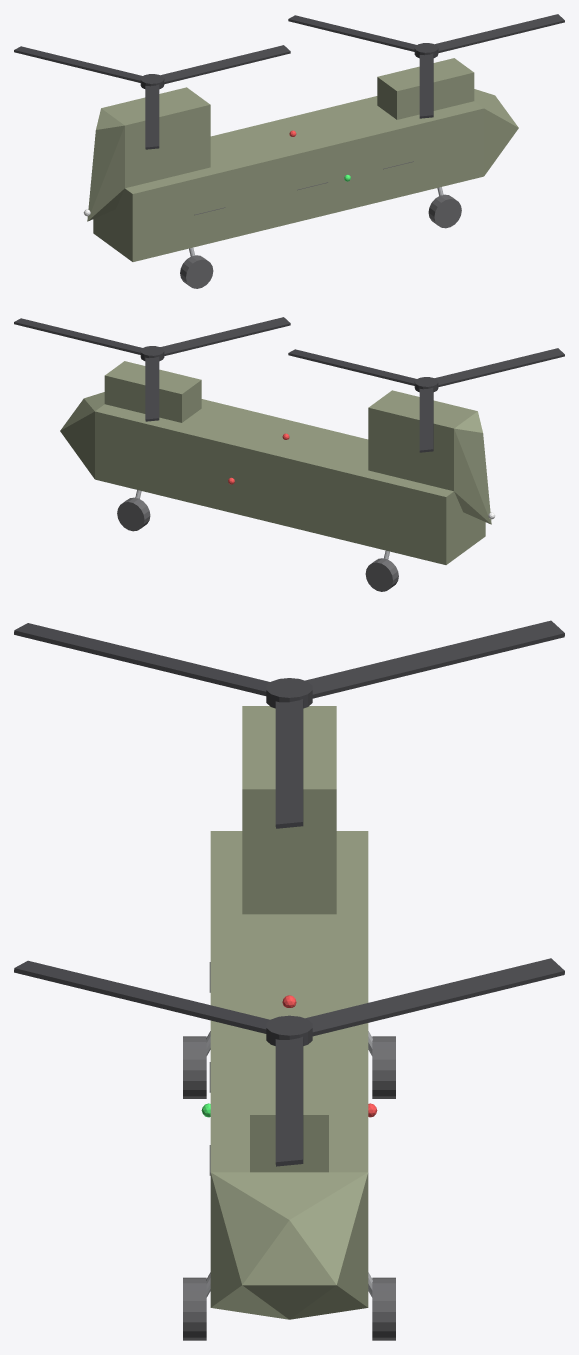
The model's file is smv_heli_tandem.glb.
The picture shows the model from 3 angles, top to bottom: view 1: azimuth 30°, elevation 25°; view 2: azimuth 150°, elevation 25°; view 3: azimuth 270°, elevation 25°; orthographic projection. The views are drawn at different scales.
Parts seen in each view (by area): view 1: heli_tandem_v0, heli_tandem_v3, heli_tandem_v2, rotor_main2_v0, rotor_main_v0, heli_tandem_v9, heli_tandem_v13; view 2: heli_tandem_v0, heli_tandem_v3, heli_tandem_v2, rotor_main2_v0, rotor_main_v0, heli_tandem_v7, heli_tandem_v11; view 3: heli_tandem_v0, heli_tandem_v3, rotor_main2_v0, rotor_main_v0, heli_tandem_v2, heli_tandem_v7, heli_tandem_v9, heli_tandem_v11, heli_tandem_v13.
Boxes of the visible parts, x1=… form: heli_tandem_v0: x1=93, y1=89, x2=518, y2=261; heli_tandem_v3: x1=87, y1=87, x2=210, y2=221; heli_tandem_v2: x1=377, y1=58, x2=474, y2=119; rotor_main2_v0: x1=14, y1=45, x2=290, y2=149; rotor_main_v0: x1=288, y1=14, x2=564, y2=118; heli_tandem_v9: x1=428, y1=194, x2=461, y2=228; heli_tandem_v13: x1=180, y1=255, x2=213, y2=288; heli_tandem_v0: x1=60, y1=392, x2=485, y2=564; heli_tandem_v3: x1=368, y1=390, x2=491, y2=524; heli_tandem_v2: x1=104, y1=361, x2=201, y2=422; rotor_main2_v0: x1=288, y1=348, x2=564, y2=452; rotor_main_v0: x1=14, y1=317, x2=290, y2=421; heli_tandem_v7: x1=117, y1=497, x2=150, y2=531; heli_tandem_v11: x1=365, y1=558, x2=398, y2=591; heli_tandem_v0: x1=210, y1=831, x2=368, y2=1319; heli_tandem_v3: x1=242, y1=706, x2=336, y2=914; rotor_main2_v0: x1=14, y1=620, x2=564, y2=828; rotor_main_v0: x1=14, y1=958, x2=564, y2=1166; heli_tandem_v2: x1=250, y1=1040, x2=328, y2=1172; heli_tandem_v7: x1=372, y1=1277, x2=395, y2=1340; heli_tandem_v9: x1=183, y1=1277, x2=206, y2=1340; heli_tandem_v11: x1=372, y1=1036, x2=395, y2=1098; heli_tandem_v13: x1=183, y1=1036, x2=206, y2=1098.
Size of the model in its own units: 2.81 by 1.09 by 1.4.
